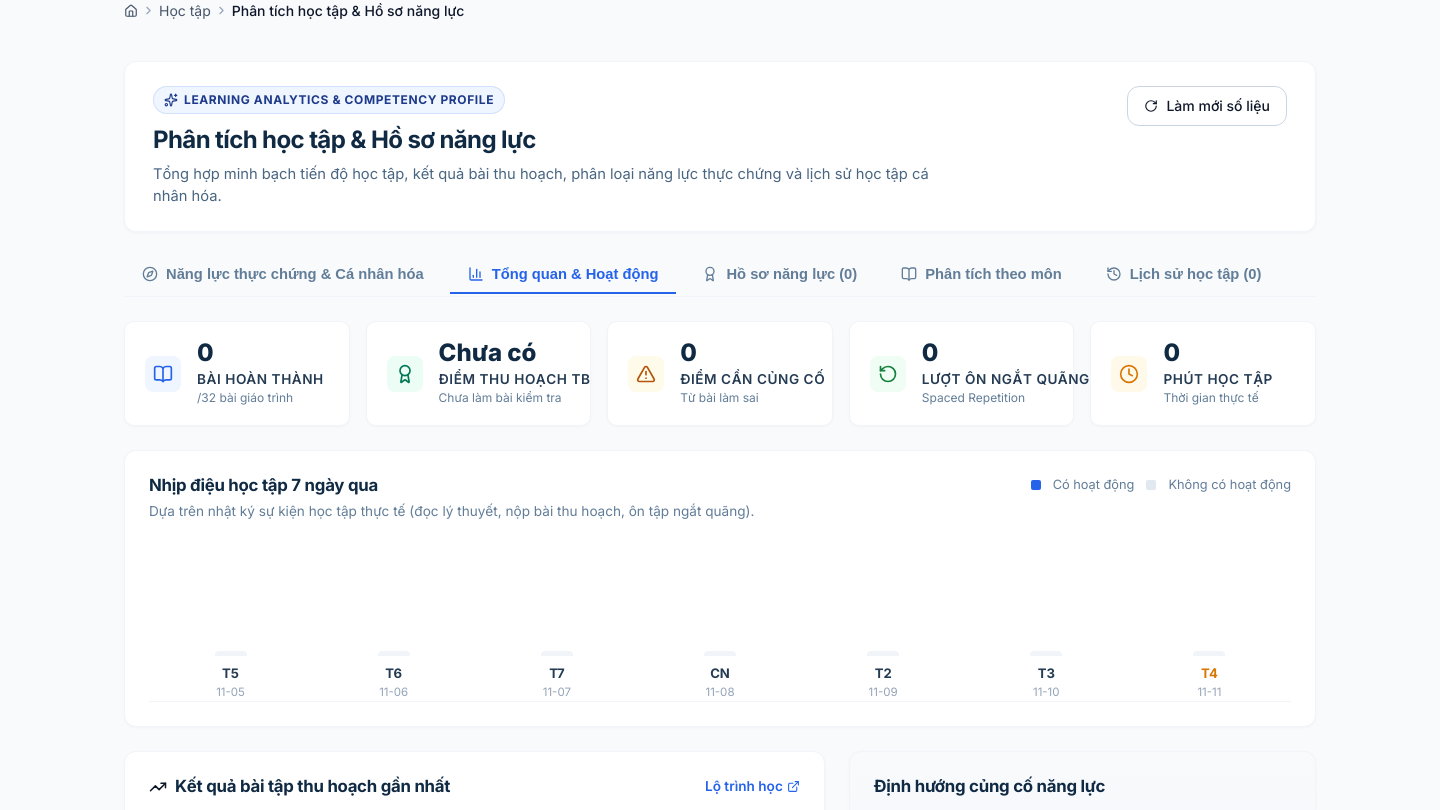
LearningAnalyticsPage Component Suite › switches to Subject Analytics tab and displays 4 subjects
Note: Click Subjects Tab
Click the tab "Phân tích theo môn".
click(982, 275)  # box [883, 256, 1080, 294]
(page scrolled)
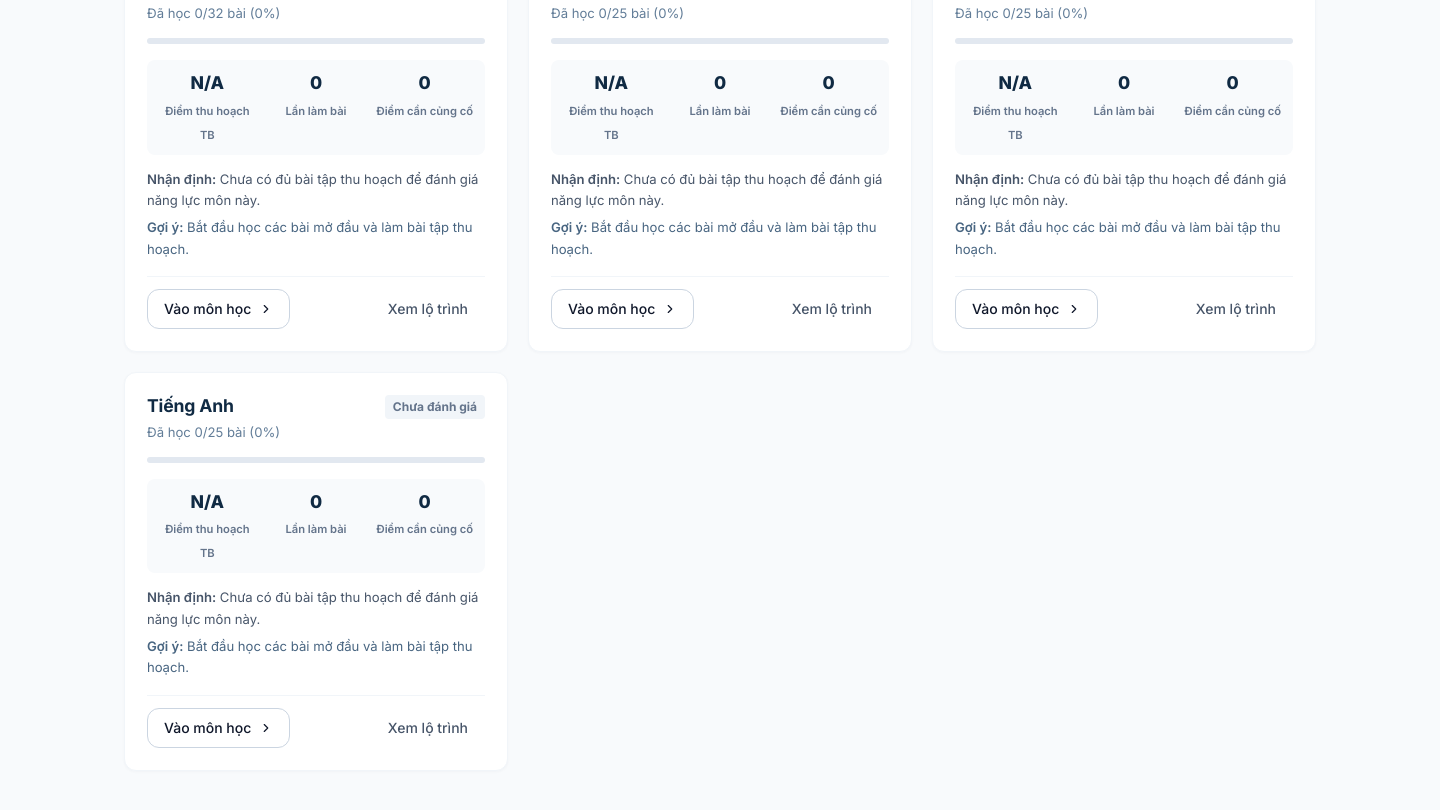
Check: the heading "Tiếng Anh" is shown, box [147, 395, 234, 416]
